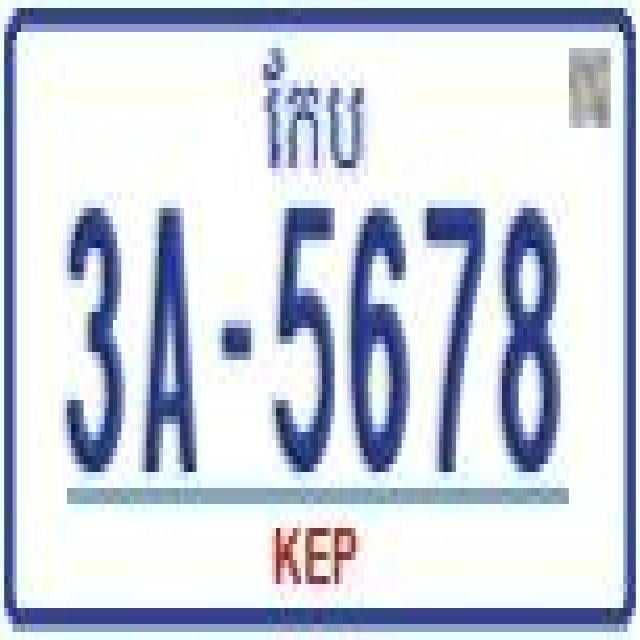Kep: (260, 40, 372, 186)
